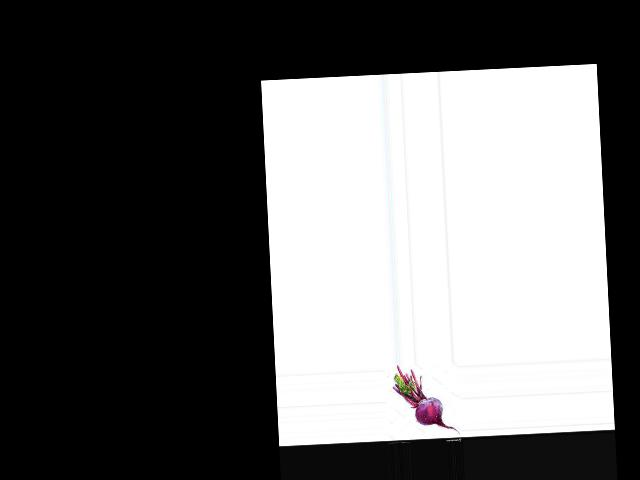beet: (391, 362, 459, 437)
